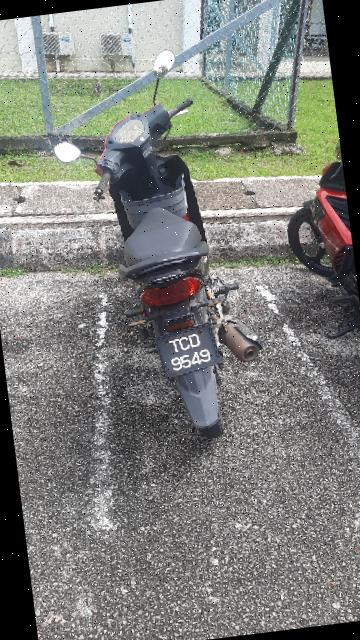License_Plate: (151, 317, 232, 384)
motorcycle: (42, 32, 279, 460)
